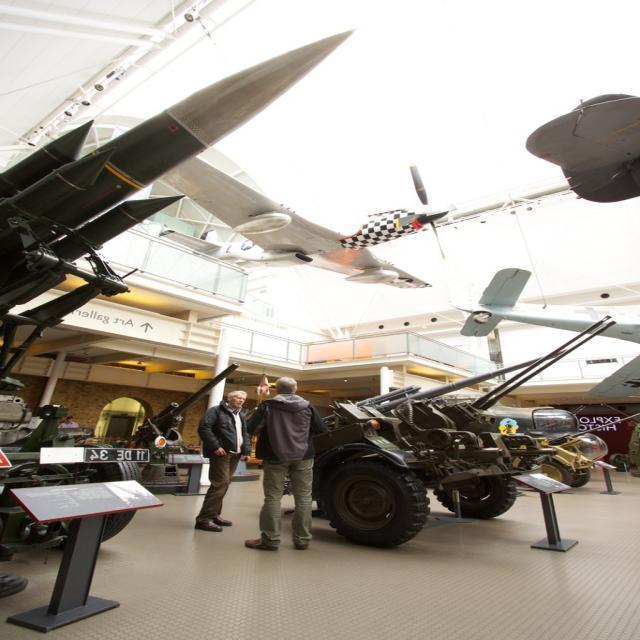missile: (0, 20, 368, 277)
